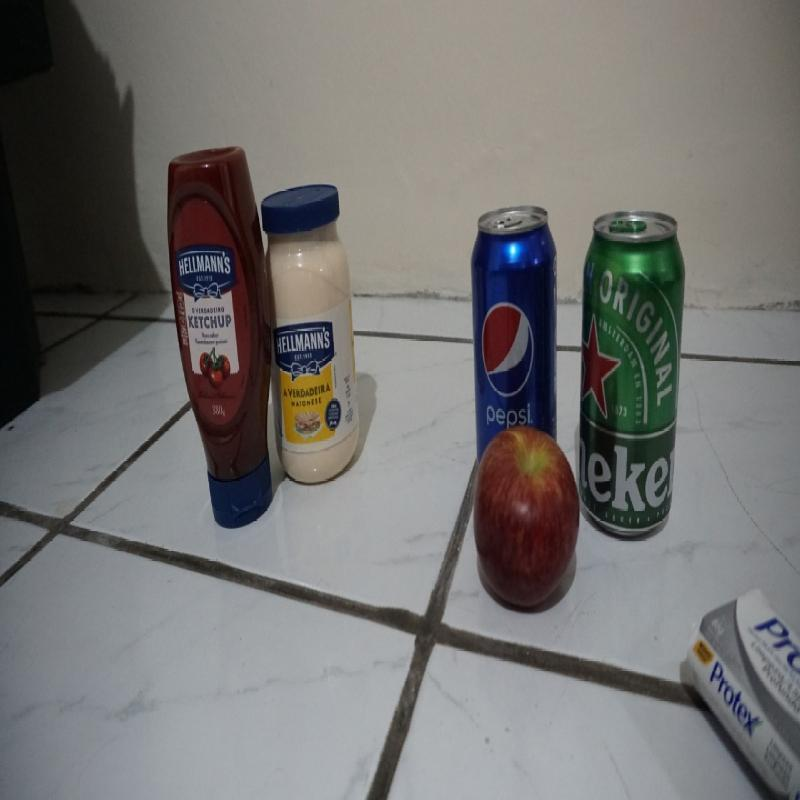Apple: (473, 424, 581, 613)
Beer can: (578, 208, 686, 549)
Ketchup: (167, 146, 273, 530)
Mayonnaise: (260, 182, 359, 486)
Soap: (685, 589, 800, 800)
Soda can: (471, 205, 558, 496)
